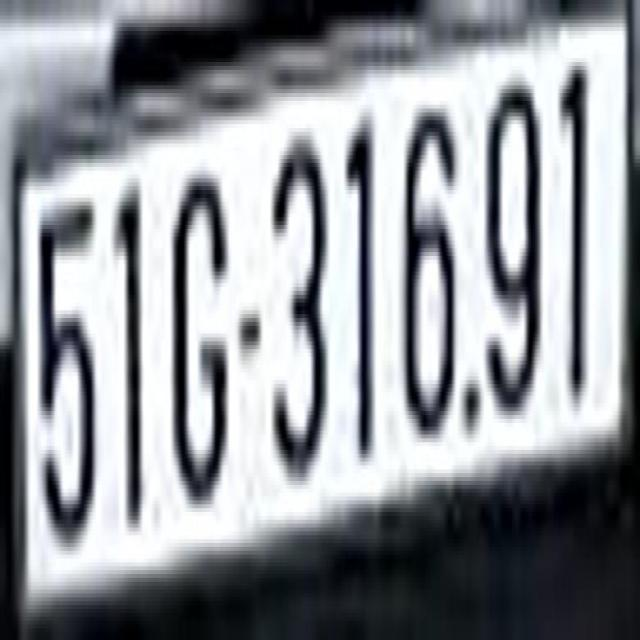1: (346, 113, 383, 473), (112, 190, 146, 524), (559, 62, 590, 384)
3: (272, 136, 326, 473)
5: (40, 198, 94, 539)
6: (405, 78, 457, 442)
9: (486, 74, 540, 411)
G: (169, 155, 228, 520)
